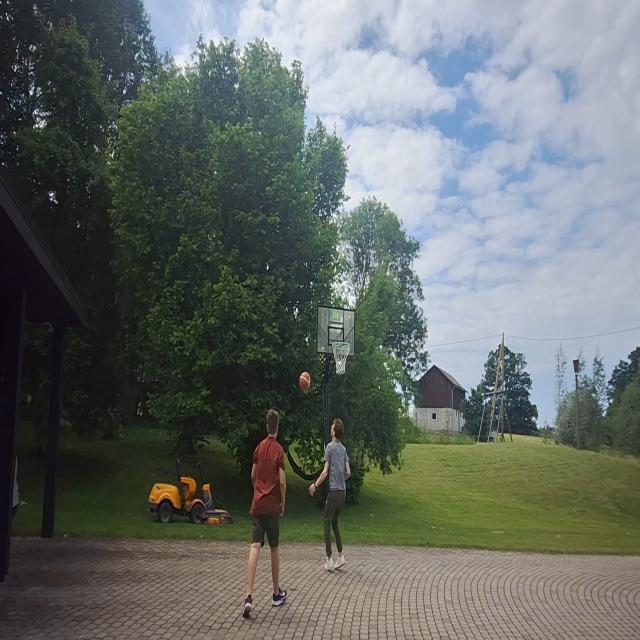ball: (300, 369, 311, 392)
basket: (333, 340, 351, 378)
player: (242, 404, 290, 613), (309, 416, 351, 572)
